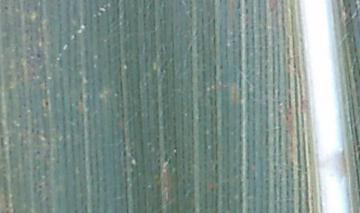tarspot: (40, 98, 52, 107), (35, 52, 42, 60), (217, 63, 225, 70), (3, 4, 8, 10)
